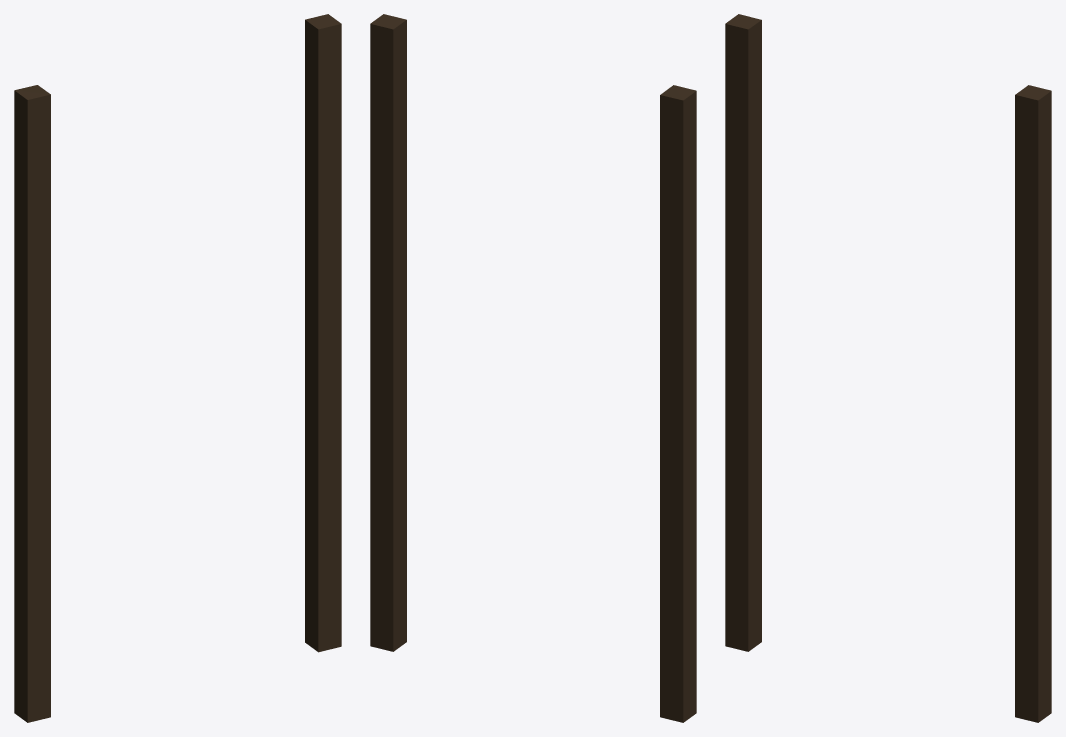
File: EVT_OC_MAINGATE02_01.OBJ
3 views of the same model, side by side, from view 1: azimuth 30°, elevation 25°; view 2: azimuth 150°, elevation 25°; view 3: azimuth 330°, elevation 25° (orthographic).
Visible parts, largest first — view 1: EVT_OC_MAINGATE02_01; view 2: EVT_OC_MAINGATE02_01; view 3: EVT_OC_MAINGATE02_01.
Boxes of the visible parts, <box> form: EVT_OC_MAINGATE02_01: <box>14,14,341,722</box>; EVT_OC_MAINGATE02_01: <box>370,14,696,722</box>; EVT_OC_MAINGATE02_01: <box>725,14,1051,722</box>.
Bounding box in the file's own units: 4.01 × 7.6 × 0.304.
